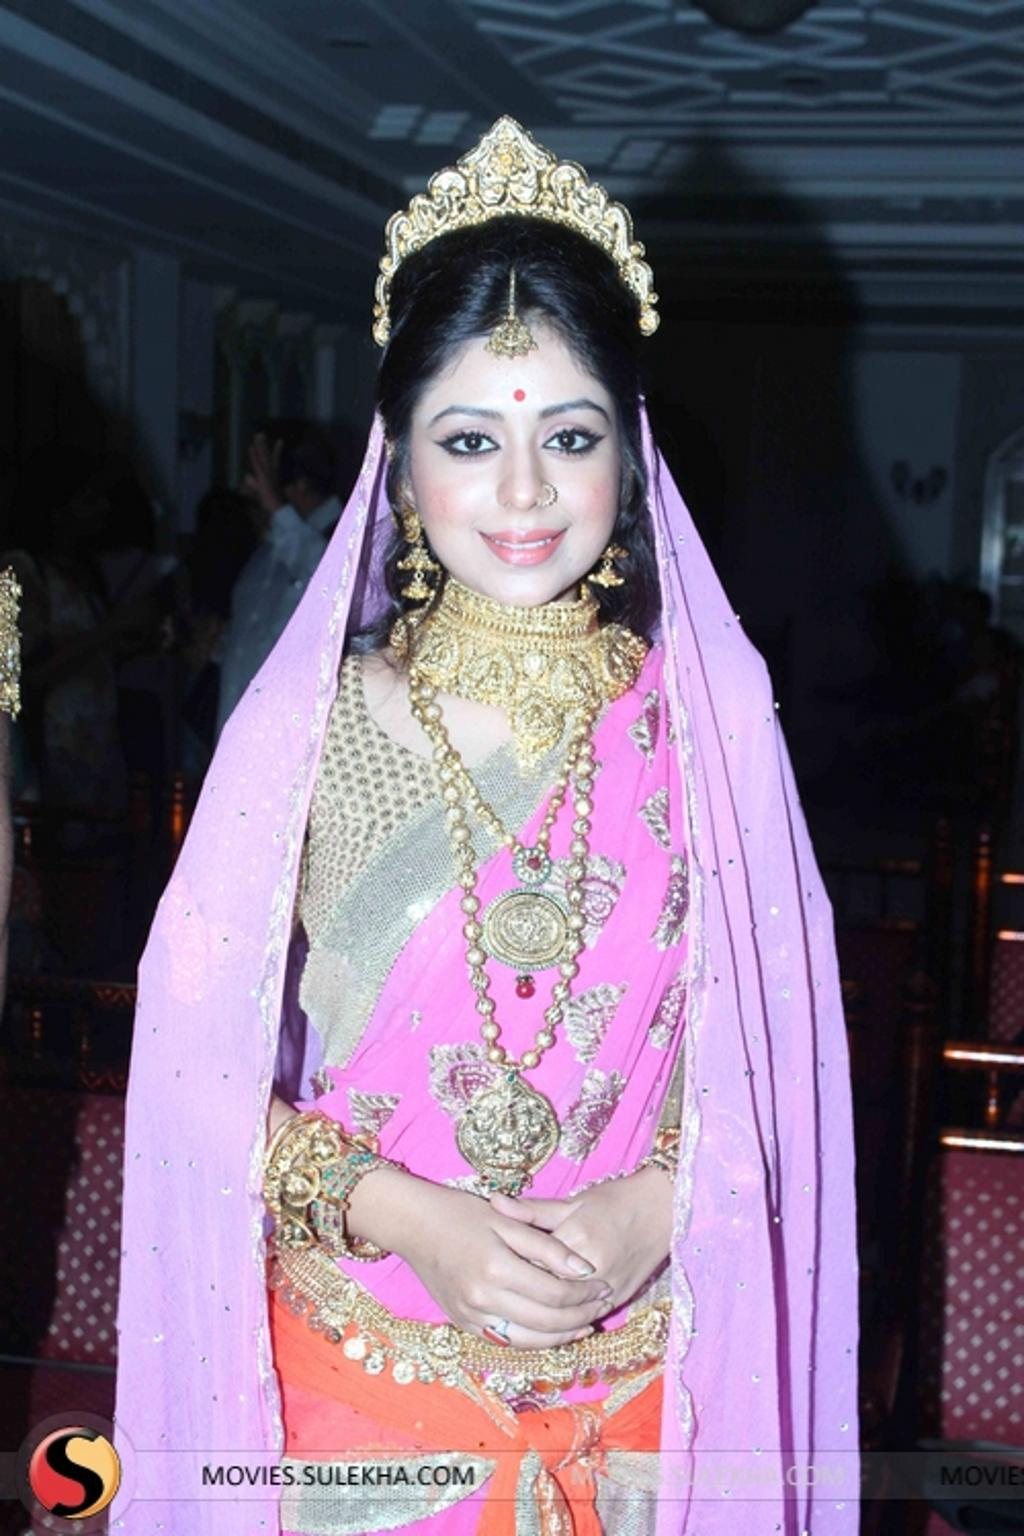face: (412, 322, 619, 610)
